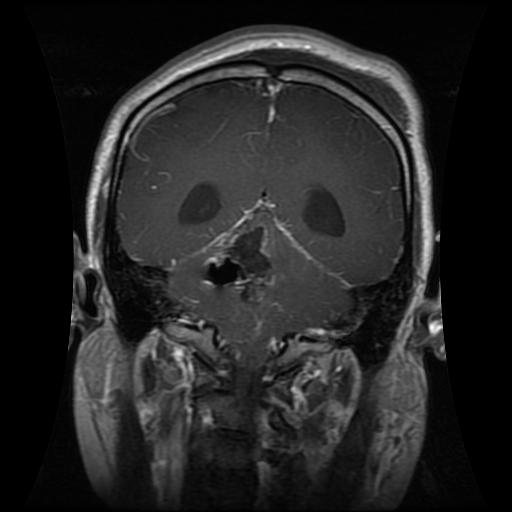Gliomia_tumour: (198, 197, 283, 305)
